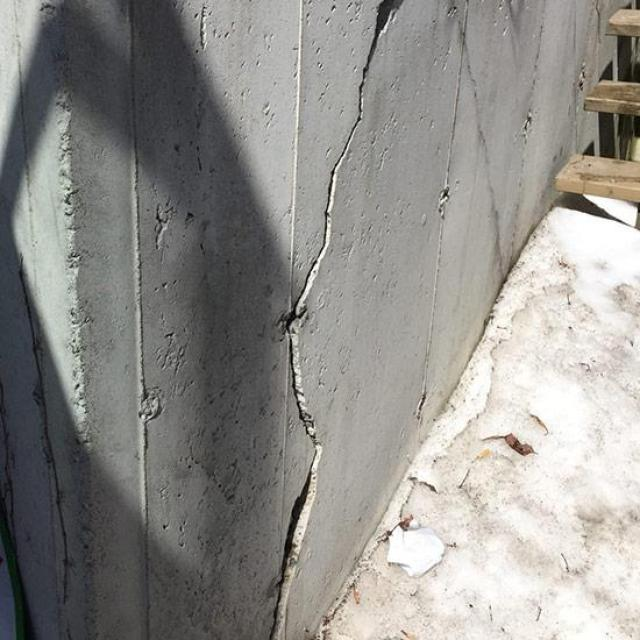crack: (270, 1, 408, 639)
